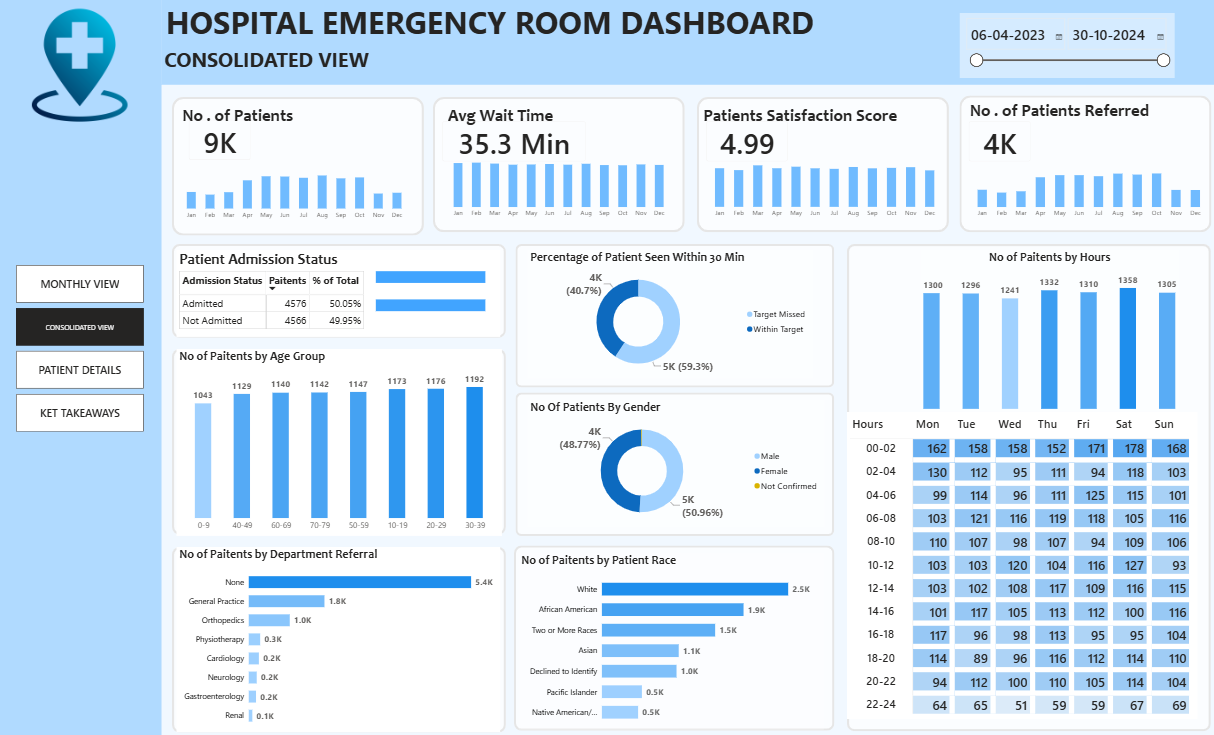

The page's visual inventory and layout, read from the dashboard file:
{"tool":"powerbi","page":{"name":"CONSOLIDATED VIEW","canvas":[2300,1400],"ordinal":1},"visuals":[{"type":"shape","box":[1602.6,462.8,686.4,919.4],"z":0},{"type":"shape","box":[327.4,462.8,630,177],"z":1000},{"type":"shape","box":[327.4,185.8,475.4,261.3],"z":2000},{"type":"shape","box":[0,0,308.6,1401.1],"z":3000},{"type":"shape","box":[308.6,0,1993,163.7],"z":4000},{"type":"textbox","box":[310,0,1550,106.7],"z":5000},{"type":"textbox","box":[308.6,85,418.8,69.3],"z":6000},{"type":"cardVisual","fields":{"Data":["Hospital ER_Data.No of Paitents"]},"box":[343.2,213,151.1,110.2],"z":7000},{"type":"image","box":[31.5,18.9,245.6,214.1],"z":8000},{"type":"textbox","box":[343.2,195.2,223.5,72.4],"z":9000},{"type":"shape","box":[821.8,185.8,475,255],"z":10000},{"type":"textbox","box":[844.4,195.8,242.4,59.8],"z":11000},{"type":"shape","box":[1319.2,185.8,475.4,255],"z":12000},{"type":"textbox","box":[1319.2,195.2,475.4,72.4],"z":13000},{"type":"shape","box":[1813.5,182.6,475.4,258.2],"z":14000},{"type":"textbox","box":[1829.3,185.8,399.9,56.7],"z":15000},{"type":"cardVisual","fields":{"Data":["Hospital ER_Data.Avg Wait Time"]},"box":[821.8,214.1,305.4,110.2],"z":16000},{"type":"cardVisual","fields":{"Data":["Hospital ER_Data.Satisfaction Score"]},"box":[1319.2,214.1,188.9,110.2],"z":17000},{"type":"cardVisual","fields":{"Data":["Hospital ER_Data.No of Patient Refer"]},"box":[1813.5,214.1,151.1,110.2],"z":18000},{"type":"columnChart","fields":{"Y":["Avg(Hospital ER_Data.Patient Waittime)"],"Category":["Date Table.Month Name"]},"box":[840.6,289.7,434.5,135.4],"z":19000},{"type":"columnChart","fields":{"Y":["Hospital ER_Data.No of Paitents"],"Category":["Date Table.Month Name"]},"box":[336.9,292.8,443.9,135.4],"z":20000},{"type":"columnChart","fields":{"Category":["Date Table.Month Name"],"Y":["Hospital ER_Data.Satisfaction Score"]},"box":[1331.8,292.8,453.4,132.2],"z":21000},{"type":"columnChart","fields":{"Y":["Hospital ER_Data.No of Patient Refer"],"Category":["Date Table.Month Name"]},"box":[1829.3,289.7,459.7,135.4],"z":22000},{"type":"pivotTable","title":"Patient  Admission Status","fields":{"Rows":["Hospital ER_Data.Admission States"],"Values":["Hospital ER_Data.No of Paitents1","Hospital ER_Data.No of Paitents"]},"box":[336.9,475.4,610.8,163.7],"z":23000},{"type":"barChart","fields":{"Y":["CountNonNull(Hospital ER_Data.Department Referral)"],"Category":["Hospital ER_Data.Admission States"]},"box":[708.4,475.4,217.2,151.1],"z":24000},{"type":"shape","box":[327.4,661.2,630,350],"z":25000},{"type":"clusteredColumnChart","fields":{"Category":["Hospital ER_Data.Age Group"],"Y":["Hospital ER_Data.No of Paitents"]},"box":[336.9,661.2,614,352.6],"z":26000},{"type":"shape","box":[327.4,1035.9,630,350],"z":27000},{"type":"clusteredBarChart","fields":{"Category":["Hospital ER_Data.Department Referral"],"Y":["Hospital ER_Data.No of Paitents"]},"box":[336.9,1035.9,610.8,349.5],"z":28000},{"type":"shape","box":[976,462.8,601.4,270.8],"z":29000},{"type":"donutChart","title":"Percentage of Patient Seen Within 30  Min","fields":{"Category":["Hospital ER_Data.Wait_Time Status"],"Y":["Hospital ER_Data.No of Paitents"]},"box":[998.1,475.4,538.4,242.4],"z":30000},{"type":"shape","box":[976,743,601.4,270.8],"z":31000},{"type":"donutChart","title":"No Of Patients By Gender","fields":{"Y":["Hospital ER_Data.No of Paitents"],"Category":["Hospital ER_Data.Patient Gender"]},"box":[998.1,758.8,560.4,239.3],"z":32000},{"type":"shape","box":[972.9,1032.7,604.5,349.5],"z":33000},{"type":"clusteredBarChart","fields":{"Y":["Hospital ER_Data.No of Paitents"],"Category":["Hospital ER_Data.Patient Race"]},"box":[982.3,1048.5,576.2,333.7],"z":34000},{"type":"pivotTable","fields":{"Rows":["Hospital ER_Data.Waittime Interval"],"Columns":["Date Table.Day Name"],"Values":["Hospital ER_Data.No of Paitents"]},"box":[1602.6,780.8,661.2,579.3],"z":35000},{"type":"columnChart","title":"No of Paitents by Hours","fields":{"Category":["Date Table.Day Name"],"Y":["Hospital ER_Data.No of Paitents"]},"box":[1741.1,475.4,488,305.4],"z":36000},{"type":"slicer","fields":{"Values":["Date Table.Date"]},"box":[1813.5,28.3,406.2,122.8],"z":37000},{"type":"pageNavigator","box":[33.3,504.2,241.7,316.7],"z":38000}]}

Visuals, with their boxes in screenshot pixels (x1, y1, x2, y2), scaled from the page's 2300x1400 canvas onto the 1214x735 screenshot:
shape: left=846, top=243, right=1208, bottom=726
shape: left=173, top=243, right=505, bottom=336
shape: left=173, top=98, right=424, bottom=235
shape: left=0, top=0, right=163, bottom=734
shape: left=163, top=0, right=1213, bottom=86
textbox: left=164, top=0, right=982, bottom=56
textbox: left=163, top=45, right=384, bottom=81
cardVisual - Hospital ER_Data.No of Paitents: left=181, top=112, right=261, bottom=170
image: left=17, top=10, right=146, bottom=122
textbox: left=181, top=102, right=299, bottom=140
shape: left=434, top=98, right=684, bottom=231
textbox: left=446, top=103, right=574, bottom=134
shape: left=696, top=98, right=947, bottom=231
textbox: left=696, top=102, right=947, bottom=140
shape: left=957, top=96, right=1208, bottom=231
textbox: left=966, top=98, right=1177, bottom=127
cardVisual - Hospital ER_Data.Avg Wait Time: left=434, top=112, right=595, bottom=170
cardVisual - Hospital ER_Data.Satisfaction Score: left=696, top=112, right=796, bottom=170
cardVisual - Hospital ER_Data.No of Patient Refer: left=957, top=112, right=1037, bottom=170
columnChart - Avg(Hospital ER_Data.Patient Waittime) x Date Table.Month Name: left=444, top=152, right=673, bottom=223
columnChart - Hospital ER_Data.No of Paitents x Date Table.Month Name: left=178, top=154, right=412, bottom=225
columnChart - Date Table.Month Name x Hospital ER_Data.Satisfaction Score: left=703, top=154, right=942, bottom=223
columnChart - Hospital ER_Data.No of Patient Refer x Date Table.Month Name: left=966, top=152, right=1208, bottom=223
"Patient  Admission Status" pivotTable: left=178, top=250, right=500, bottom=336
barChart - CountNonNull(Hospital ER_Data.Department Referral) x Hospital ER_Data.Admission States: left=374, top=250, right=489, bottom=329
shape: left=173, top=347, right=505, bottom=531
clusteredColumnChart - Hospital ER_Data.Age Group x Hospital ER_Data.No of Paitents: left=178, top=347, right=502, bottom=532
shape: left=173, top=544, right=505, bottom=728
clusteredBarChart - Hospital ER_Data.Department Referral x Hospital ER_Data.No of Paitents: left=178, top=544, right=500, bottom=727
shape: left=515, top=243, right=833, bottom=385
"Percentage of Patient Seen Within 30  Min" donutChart: left=527, top=250, right=811, bottom=377
shape: left=515, top=390, right=833, bottom=532
"No Of Patients By Gender" donutChart: left=527, top=398, right=823, bottom=524
shape: left=514, top=542, right=833, bottom=726
clusteredBarChart - Hospital ER_Data.No of Paitents x Hospital ER_Data.Patient Race: left=518, top=550, right=823, bottom=726
pivotTable - Hospital ER_Data.Waittime Interval x Date Table.Day Name: left=846, top=410, right=1195, bottom=714
"No of Paitents by Hours" columnChart: left=919, top=250, right=1177, bottom=410
slicer - Date Table.Date: left=957, top=15, right=1172, bottom=79
pageNavigator: left=18, top=265, right=145, bottom=431
